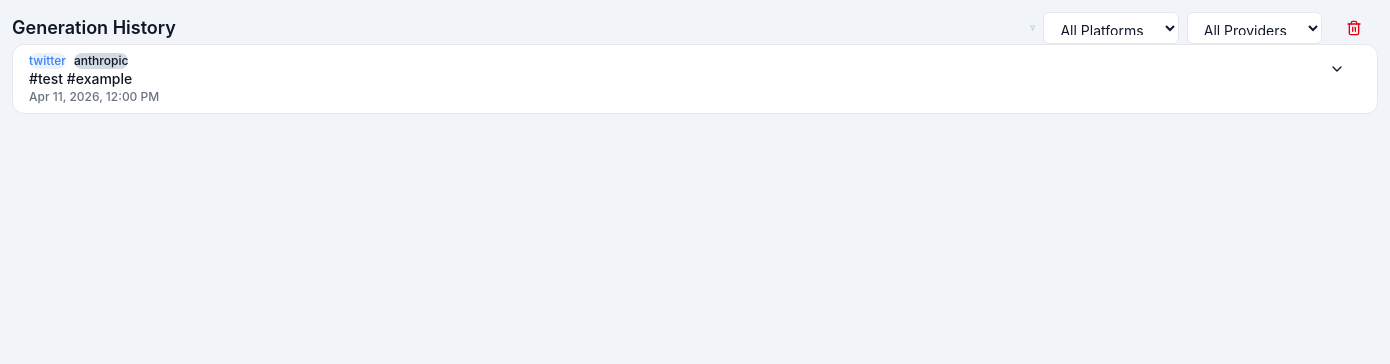
Test: GenerationHistory › interaction › shows tokens used when available
Click the button named "expand". click: (1337, 69)
box: 1313,53 -> 1361,85
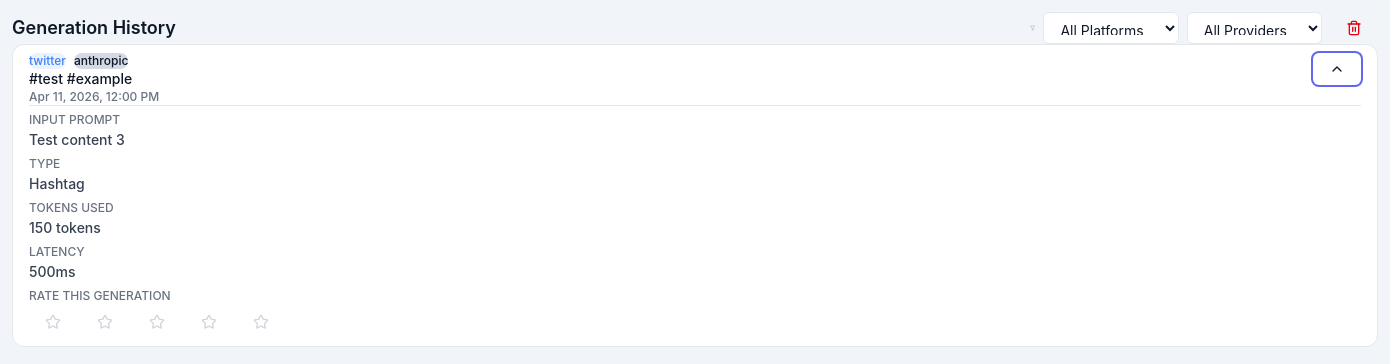
Result: the text "150 tokens" is shown at 29,219 -> 101,236
